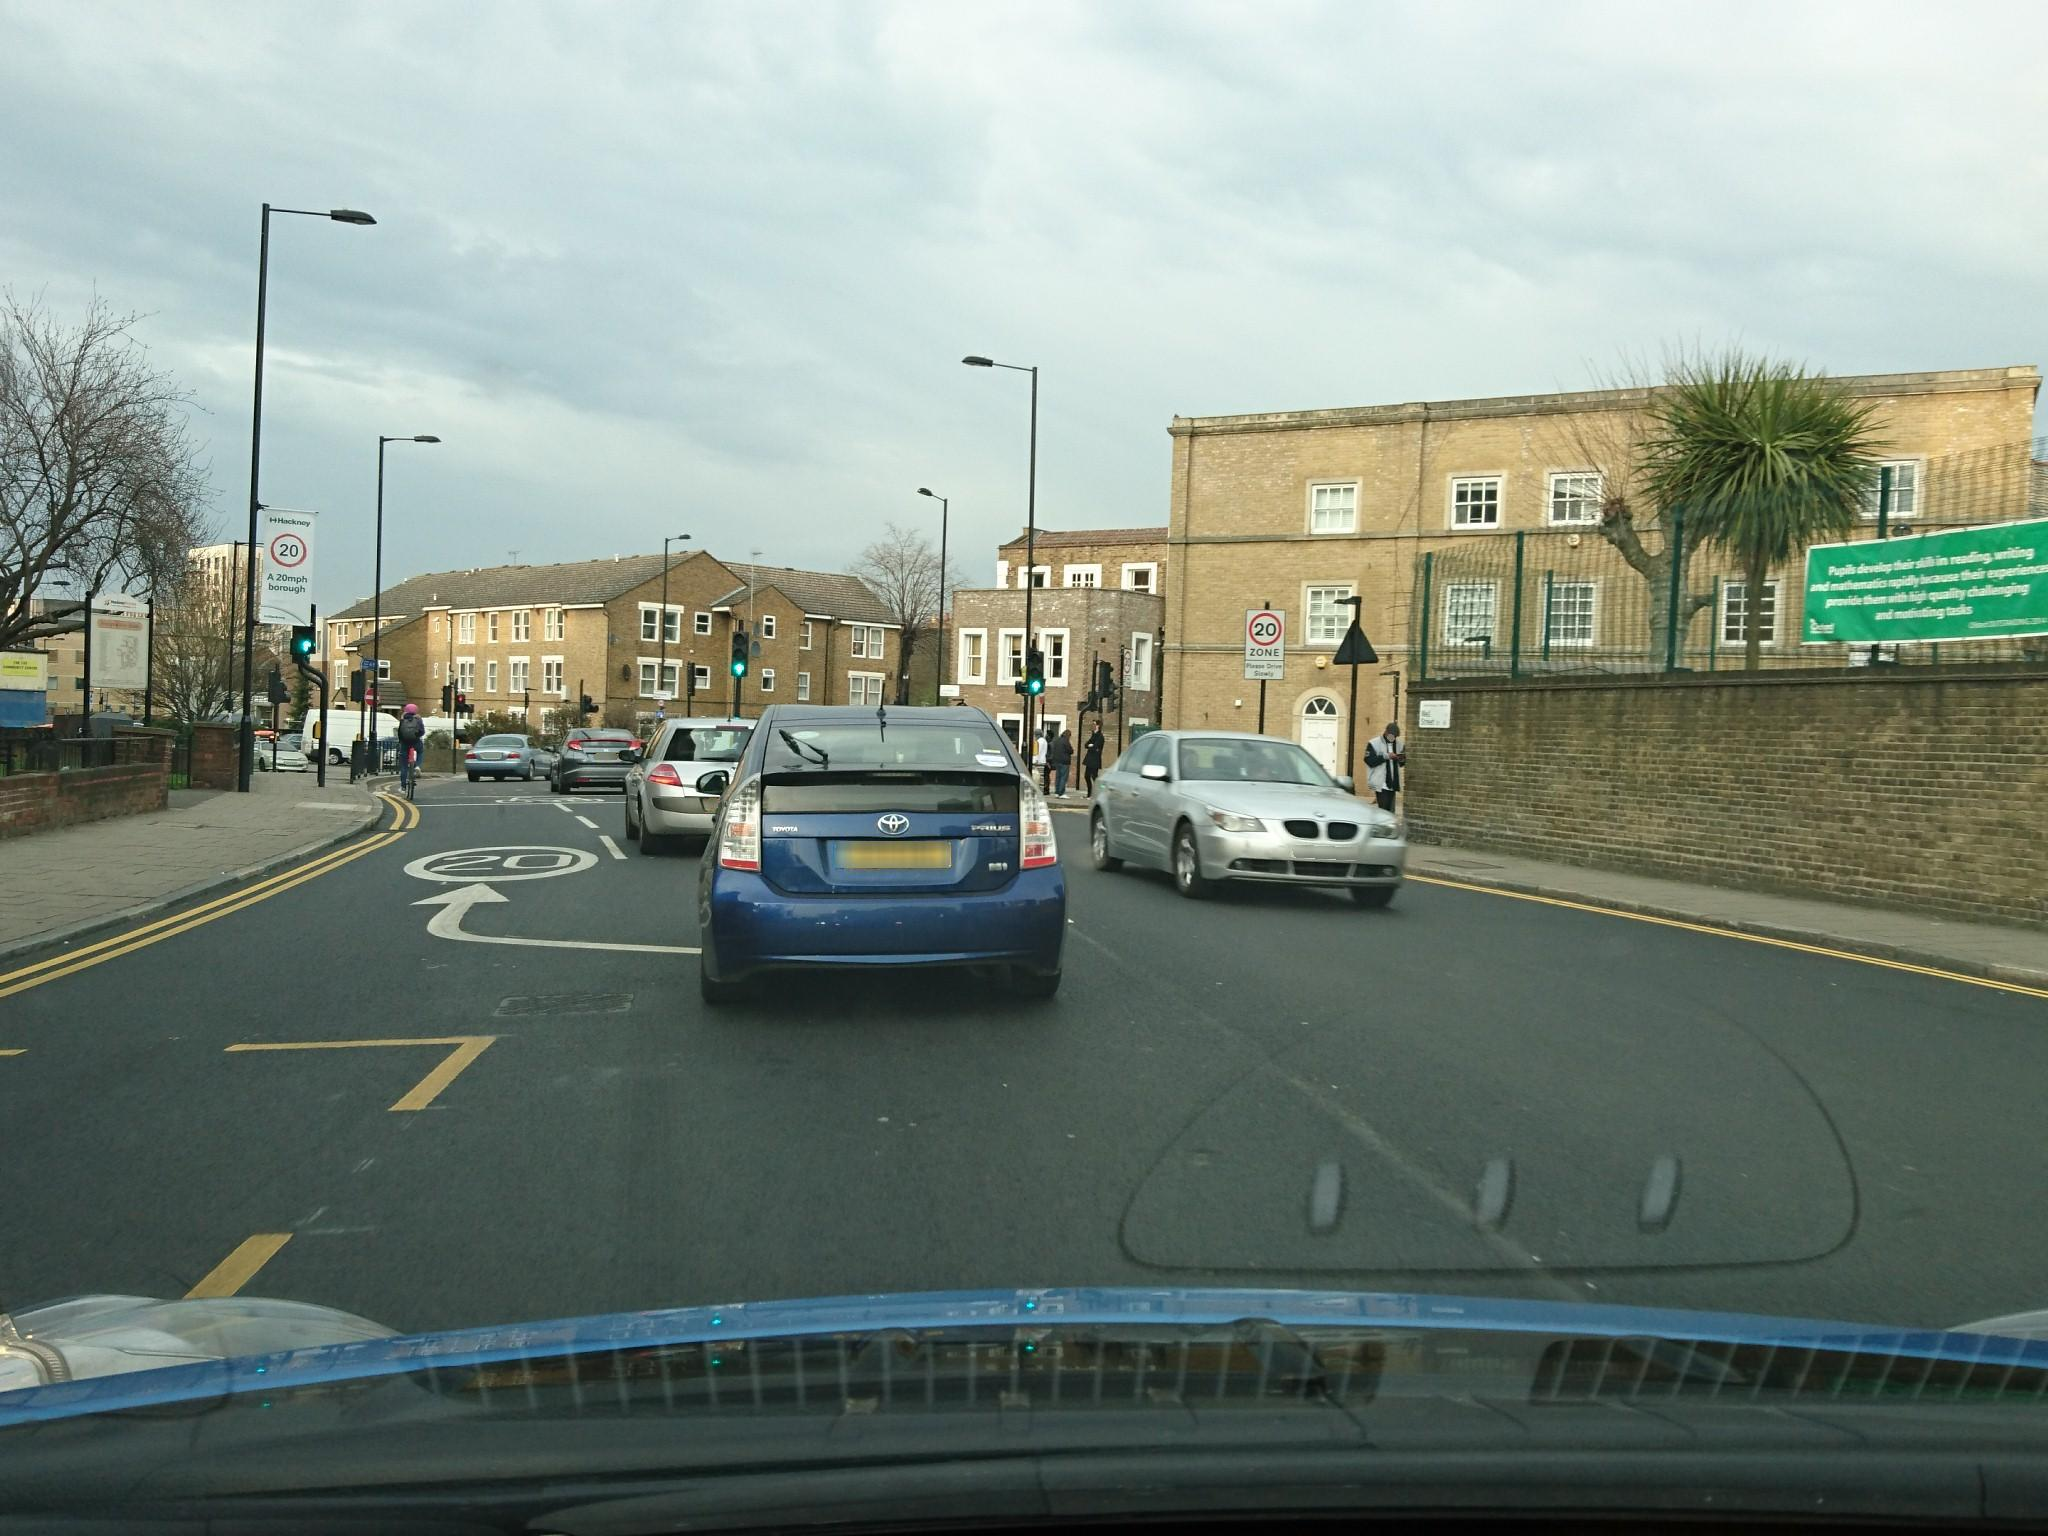vinyl banner: (1801, 495, 2048, 700)
